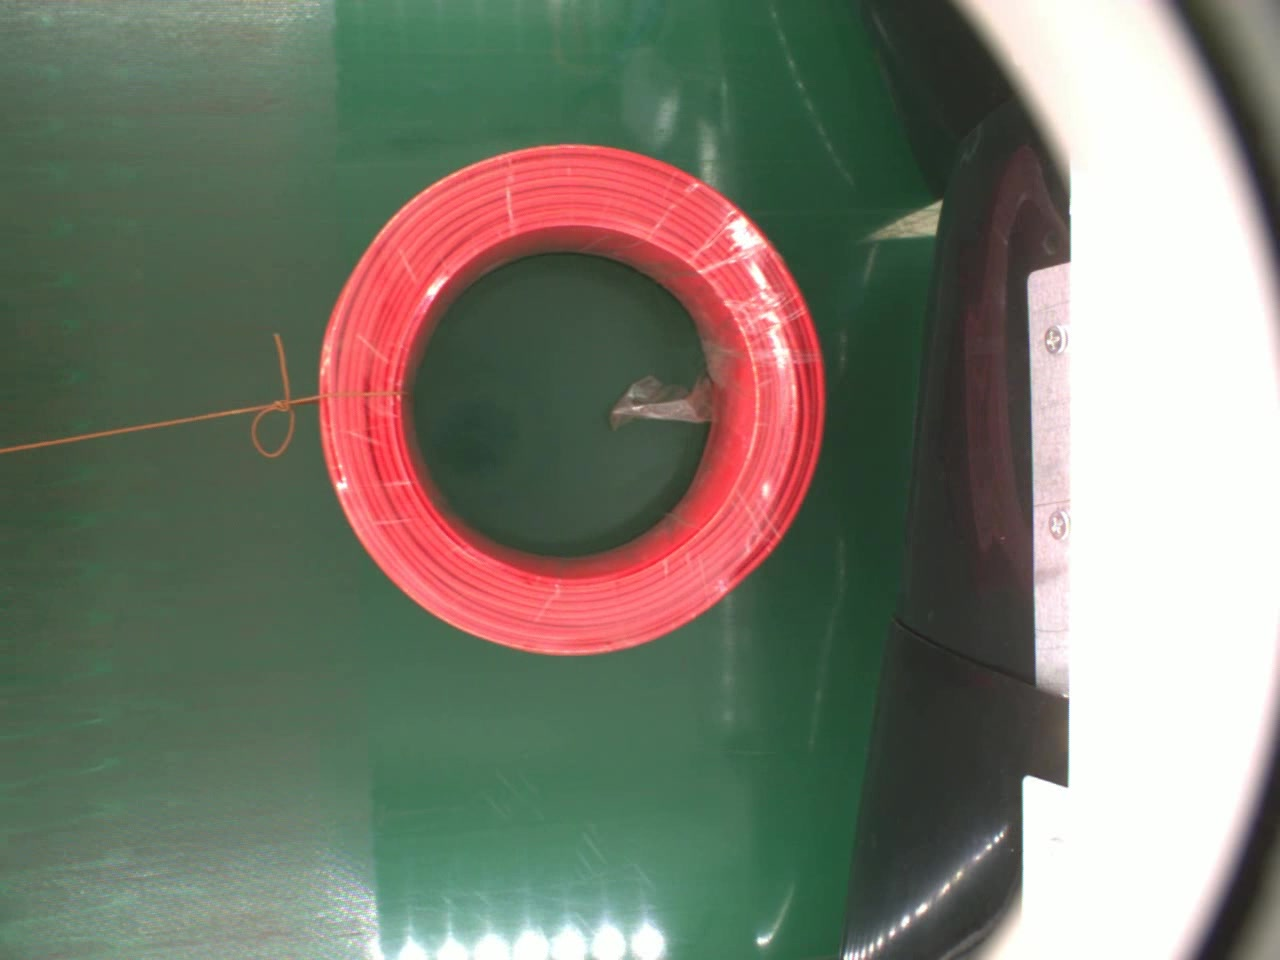red: (307, 138, 840, 665)
